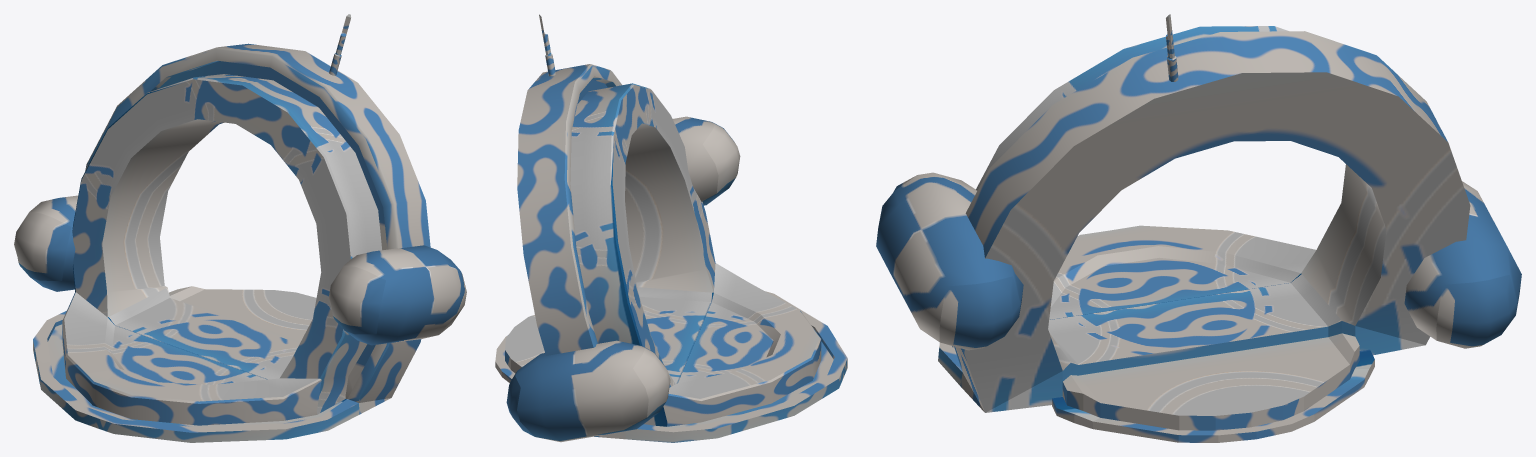
The model's file is S_Portal.fbx.
3 views of the same model, side by side, from view 1: azimuth 30°, elevation 25°; view 2: azimuth 150°, elevation 25°; view 3: azimuth 270°, elevation 25° (orthographic). The views are drawn at different scales.
Visible parts, largest first — view 1: S_Portal; view 2: S_Portal; view 3: S_Portal.
Boxes of the visible parts, <box> form: S_Portal: <box>14,14,466,442</box>; S_Portal: <box>495,14,847,442</box>; S_Portal: <box>876,14,1521,442</box>.
Bounding box in the file's own units: 595 × 572 × 799.
1 material, 1 textured.
